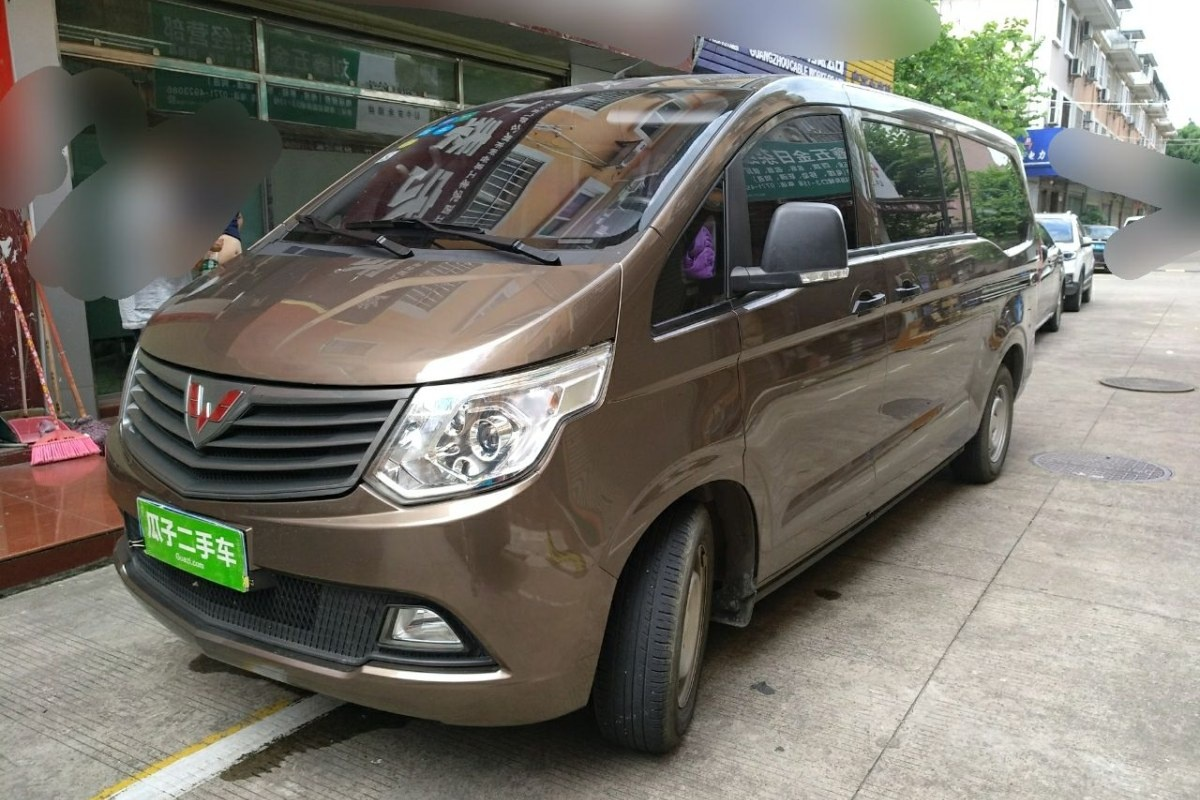minibus: (99, 74, 1039, 743)
